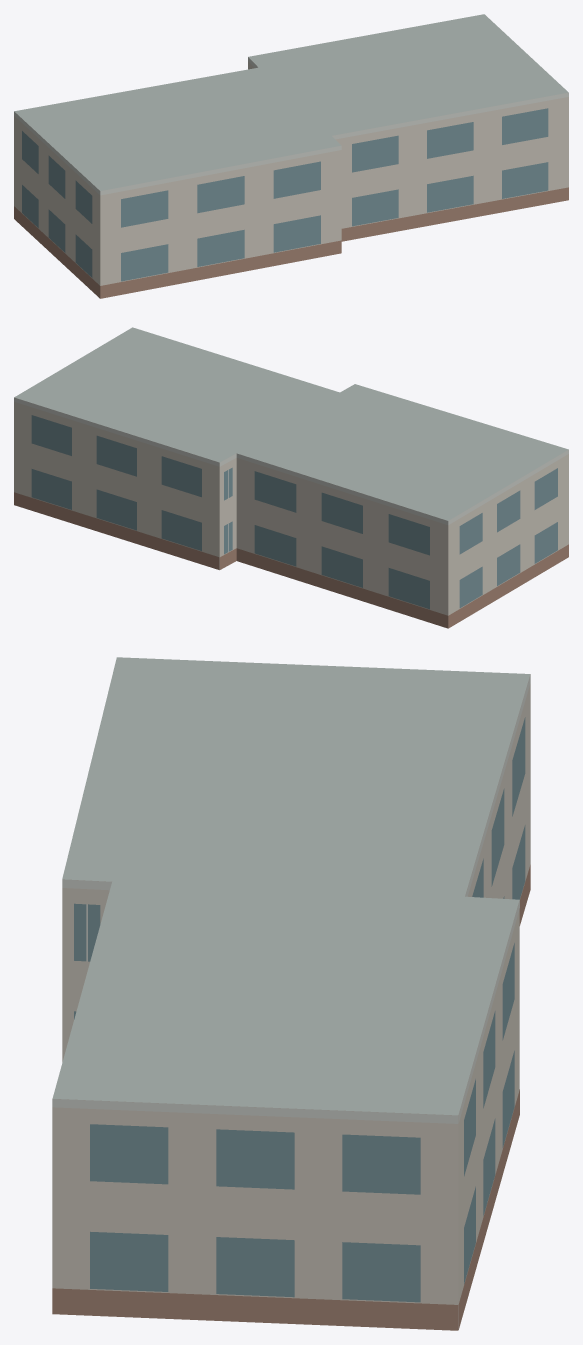
The model's file is survey-upis-32667078.glb.
3 views of the same model, one above another, from view 1: azimuth 30°, elevation 25°; view 2: azimuth 150°, elevation 25°; view 3: azimuth 270°, elevation 25° (orthographic). The views are drawn at different scales.
Parts seen in each view (by area): view 1: survey-upis-32667078.tmp; view 2: survey-upis-32667078.tmp; view 3: survey-upis-32667078.tmp.
Boxes of the visible parts, x1,y1,x2,y2 form: survey-upis-32667078.tmp: (14, 14, 568, 298); survey-upis-32667078.tmp: (14, 327, 568, 628); survey-upis-32667078.tmp: (52, 657, 530, 1330).
Size of the model in its own units: 27.85 by 6.1 by 12.29.
